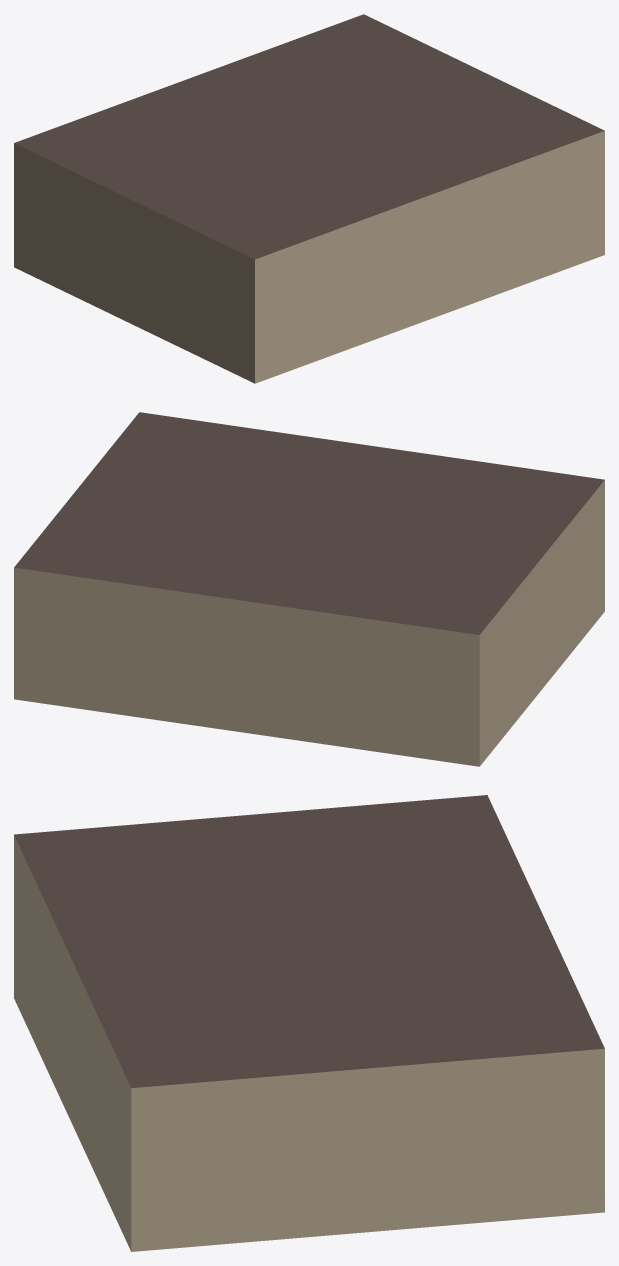
3 renders of one model, top to bottom at view 1: azimuth 30°, elevation 25°; view 2: azimuth 150°, elevation 25°; view 3: azimuth 270°, elevation 25°, orthographic. The views are drawn at different scales.
Parts seen in each view (by area): view 1: HP-w859488819; view 2: HP-w859488819; view 3: HP-w859488819.
Boxes of the visible parts, x1,y1,x2,y2 form: HP-w859488819: (14,14,604,383); HP-w859488819: (14,412,604,766); HP-w859488819: (14,795,604,1251).
Size of the model in its own units: 34.56 by 9 by 29.44.
